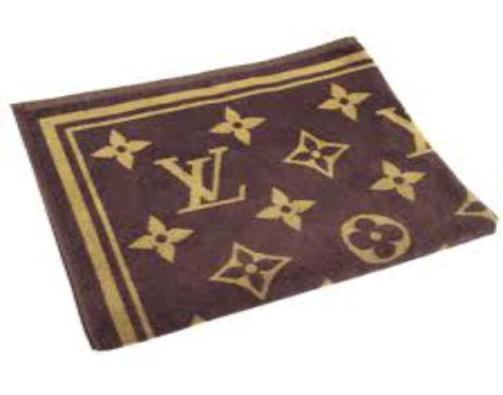LOUIS-VUITTON: (150, 137, 247, 221)
